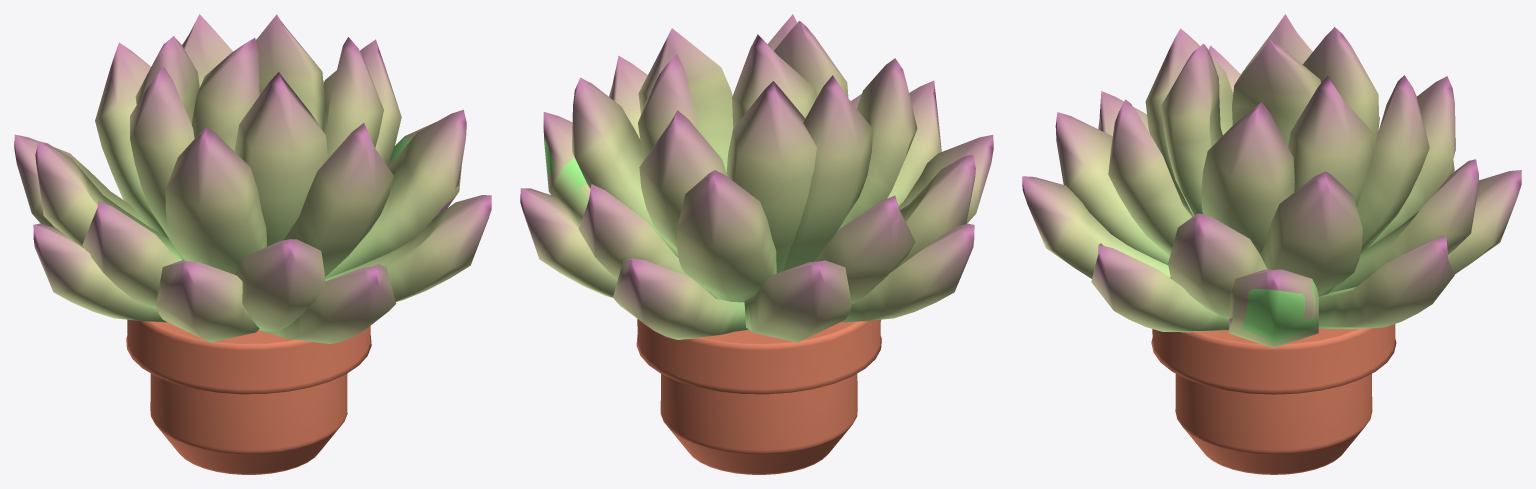
The model's file is planto.glb.
3 views of the same model, side by side, from view 1: azimuth 30°, elevation 25°; view 2: azimuth 150°, elevation 25°; view 3: azimuth 270°, elevation 25° (orthographic).
Visible parts, largest first — view 1: 圆环, 立方体.019, 立方体.023, 立方体.011, 立方体.013, 立方体.007, 立方体.009, 立方体.005, 立方体.025, 立方体.014, 立方体.003, 立方体.001 (+10 smaller); view 2: 圆环, 立方体.012, 立方体.017, 立方体.025, 立方体.002, 立方体.015, 立方体.006, 立方体.001, 立方体.024, 立方体.019, 立方体.010, 立方体.004 (+10 smaller); view 3: 圆环, 立方体.022, 立方体.015, 立方体.004, 立方体.024, 立方体.013, 立方体.020, 立方体.023, 立方体.007, 立方体.011, 立方体.009, 立方体 (+9 smaller).
Part boxes in pixels (x1,y1,x2,y2): 圆环: (126, 319, 371, 474); 立方体.019: (165, 126, 267, 274); 立方体.023: (234, 72, 328, 246); 立方体.011: (325, 109, 466, 278); 立方体.013: (284, 123, 393, 276); 立方体.007: (325, 195, 491, 301); 立方体.009: (235, 239, 325, 331); 立方体.005: (156, 260, 259, 342); 立方体.025: (130, 66, 194, 260); 立方体.014: (82, 201, 178, 308); 立方体.003: (263, 264, 396, 343); 立方体.001: (33, 223, 167, 322); 圆环: (636, 319, 881, 474); 立方体.012: (676, 170, 776, 302); 立方体.017: (726, 81, 817, 273); 立方体.025: (783, 75, 872, 271); 立方体.002: (613, 257, 747, 339); 立方体.015: (572, 77, 678, 257); 立方体.006: (744, 260, 851, 342); 立方体.001: (840, 223, 974, 322); 立方体.024: (639, 110, 727, 251); 立方体.019: (836, 58, 917, 232); 立方体.010: (814, 195, 915, 303); 立方体.004: (520, 188, 617, 297); 圆环: (1151, 324, 1396, 474); 立方体.022: (1201, 102, 1294, 255); 立方体.015: (1261, 171, 1362, 296); 立方体.004: (1318, 235, 1454, 329); 立方体.024: (1356, 75, 1429, 253); 立方体.013: (1108, 99, 1193, 255); 立方体.020: (1288, 75, 1373, 206); 立方体.023: (1161, 43, 1222, 215); 立方体.007: (1091, 243, 1228, 332); 立方体.011: (1168, 213, 1267, 319); 立方体.009: (1055, 112, 1169, 264); 立方体: (1229, 269, 1318, 348).
Size of the model in its own units: 11.08 by 10.01 by 11.16.
2 materials, 1 textured.
